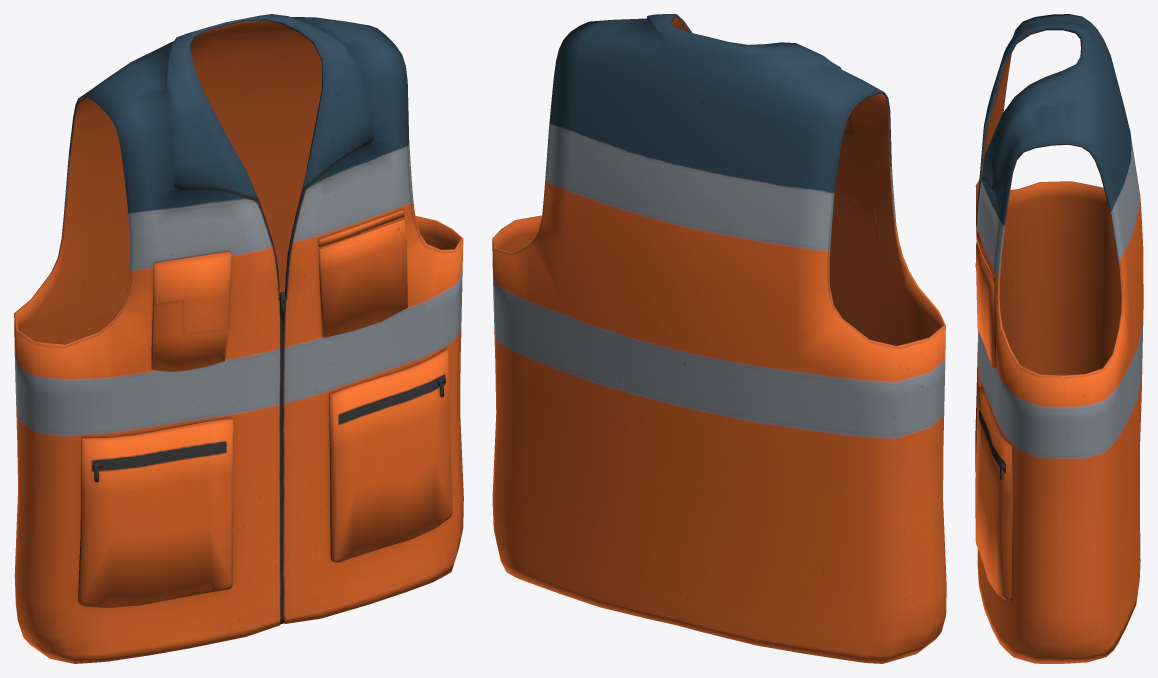
File: M_Safety_Vest.fbx
3 renders of one model, left to right at view 1: azimuth 30°, elevation 25°; view 2: azimuth 150°, elevation 25°; view 3: azimuth 270°, elevation 25°, orthographic. The views are drawn at different scales.
Visible parts, largest first — view 1: Safety_Vest; view 2: Safety_Vest; view 3: Safety_Vest.
Boxes of the visible parts, x1=… form: Safety_Vest: x1=14, y1=14, x2=463, y2=663; Safety_Vest: x1=492, y1=14, x2=946, y2=663; Safety_Vest: x1=975, y1=14, x2=1143, y2=663.
Bounding box in the file's own units: 51.08 × 64.18 × 18.58.
